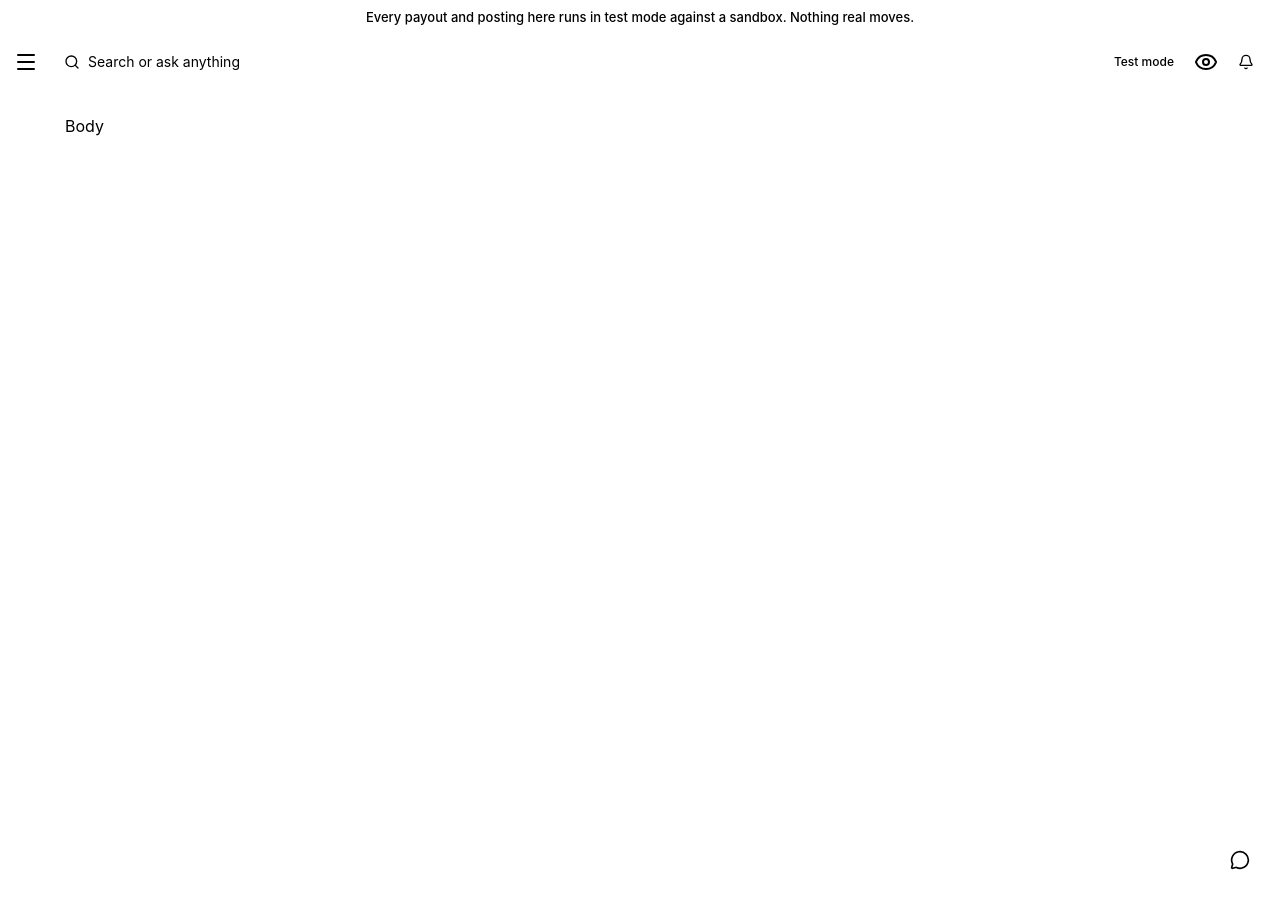
Test: the agent launcher › opens from the top bar's Ask off Home, with the cursor in the panel's question box
Expected: the dialog "Agent" is not shown
Click the link "Search or ask anything": (152, 62) [64,53,240,70]
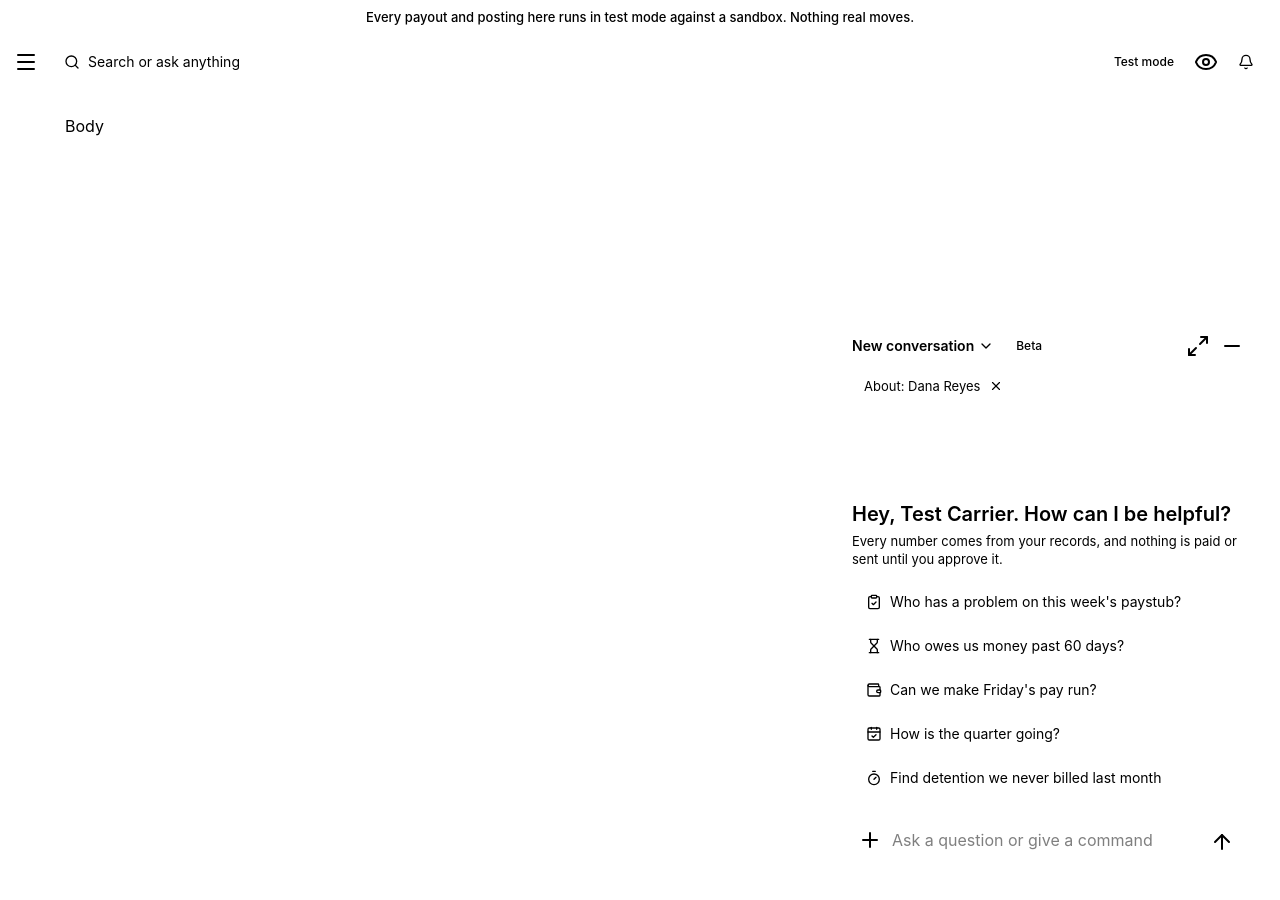
Expected: the text "About: Dana Reyes" is shown, [864,377,980,395]
Expected: the number of text boxes named "Your question" is 1, [892,822,1200,858]
